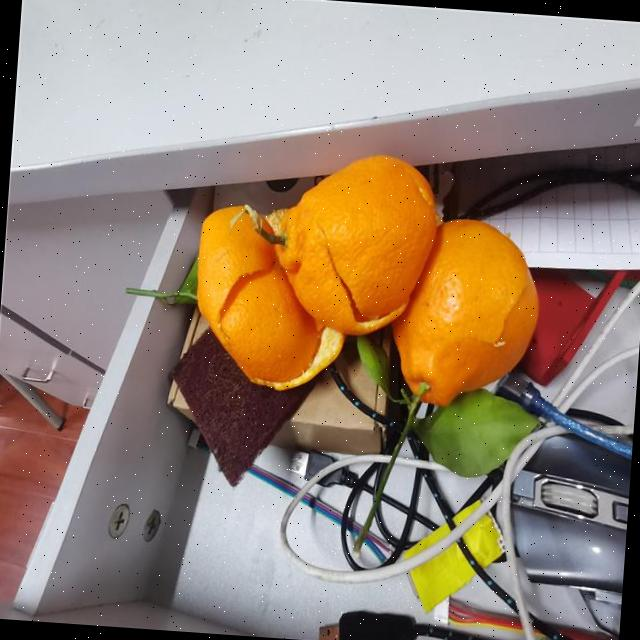orange-peel: (268, 146, 442, 340), (186, 200, 353, 394), (386, 211, 544, 412)
